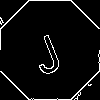J: (25, 25, 65, 77)
